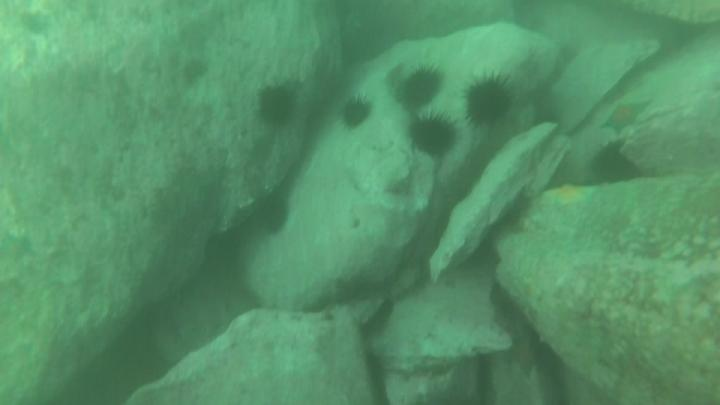echinus: (461, 72, 516, 129), (409, 113, 461, 159), (399, 64, 446, 113), (255, 82, 301, 131), (257, 190, 292, 239), (340, 95, 375, 133)
starfish: (601, 97, 652, 140), (545, 178, 601, 215)
